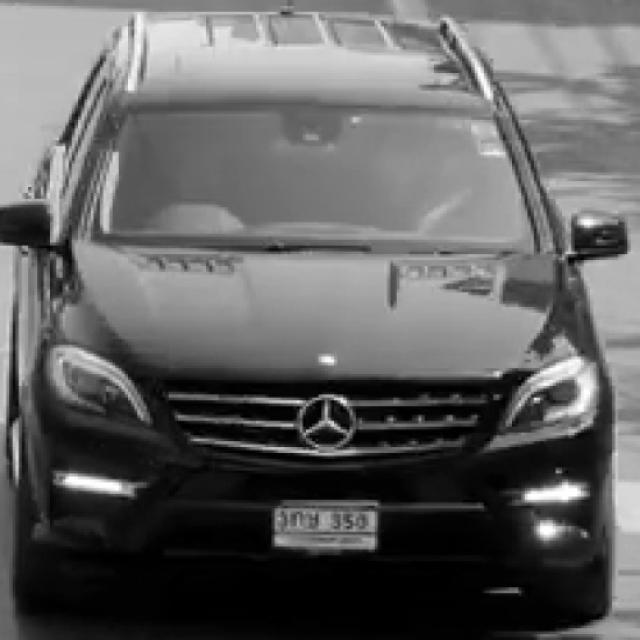plate: (274, 503, 379, 553)
